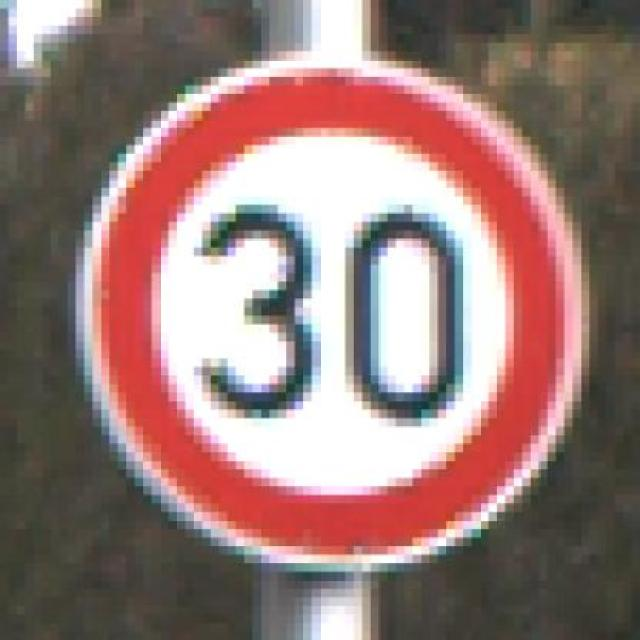Speed Limit 30 KMPh: (25, 34, 623, 580)
